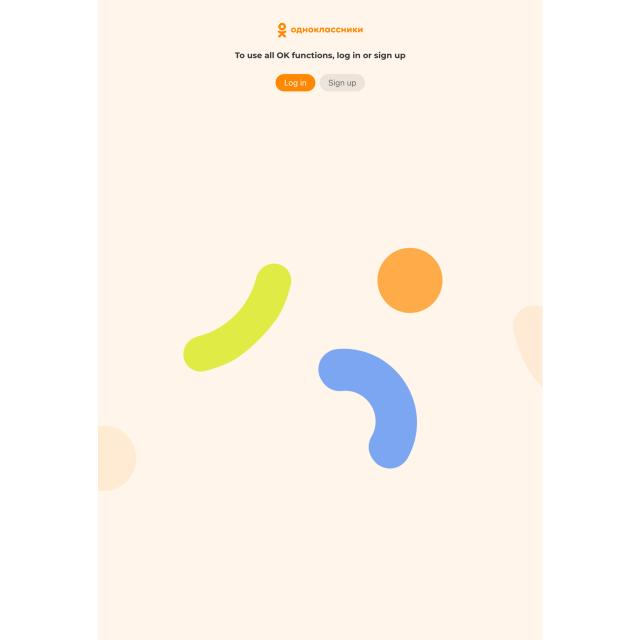logo: (274, 19, 372, 41)
